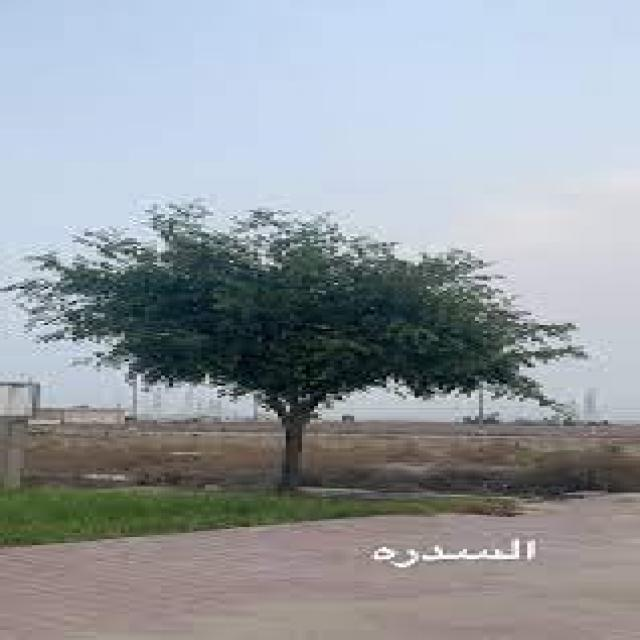tree: (16, 206, 592, 493)
